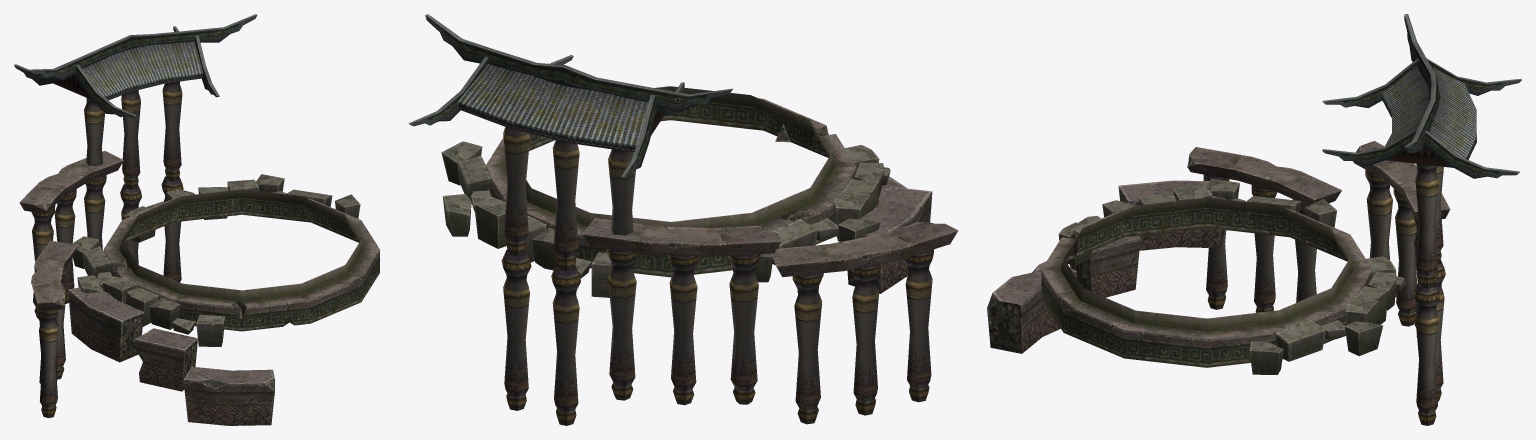
The model's file is BGMB0002_0008_01.FBX.
3 renders of one model, left to right at view 1: azimuth 30°, elevation 25°; view 2: azimuth 150°, elevation 25°; view 3: azimuth 270°, elevation 25°, orthographic. The views are drawn at different scales.
Visible parts, largest first — view 1: MB0002_0008_01; view 2: MB0002_0008_01; view 3: MB0002_0008_01.
Boxes of the visible parts, x1=… form: MB0002_0008_01: x1=14, y1=14, x2=379, y2=425; MB0002_0008_01: x1=409, y1=14, x2=958, y2=425; MB0002_0008_01: x1=987, y1=14, x2=1521, y2=425.
Size of the model in its own units: 20.42 by 15.28 by 22.61.
